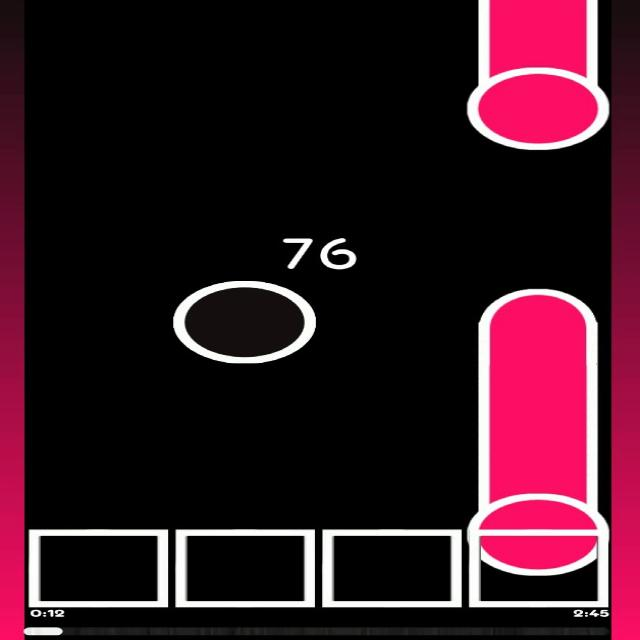end_hold: (475, 275, 601, 330)
note: (174, 280, 318, 364)
start_hold: (467, 50, 610, 148), (466, 478, 608, 576)
